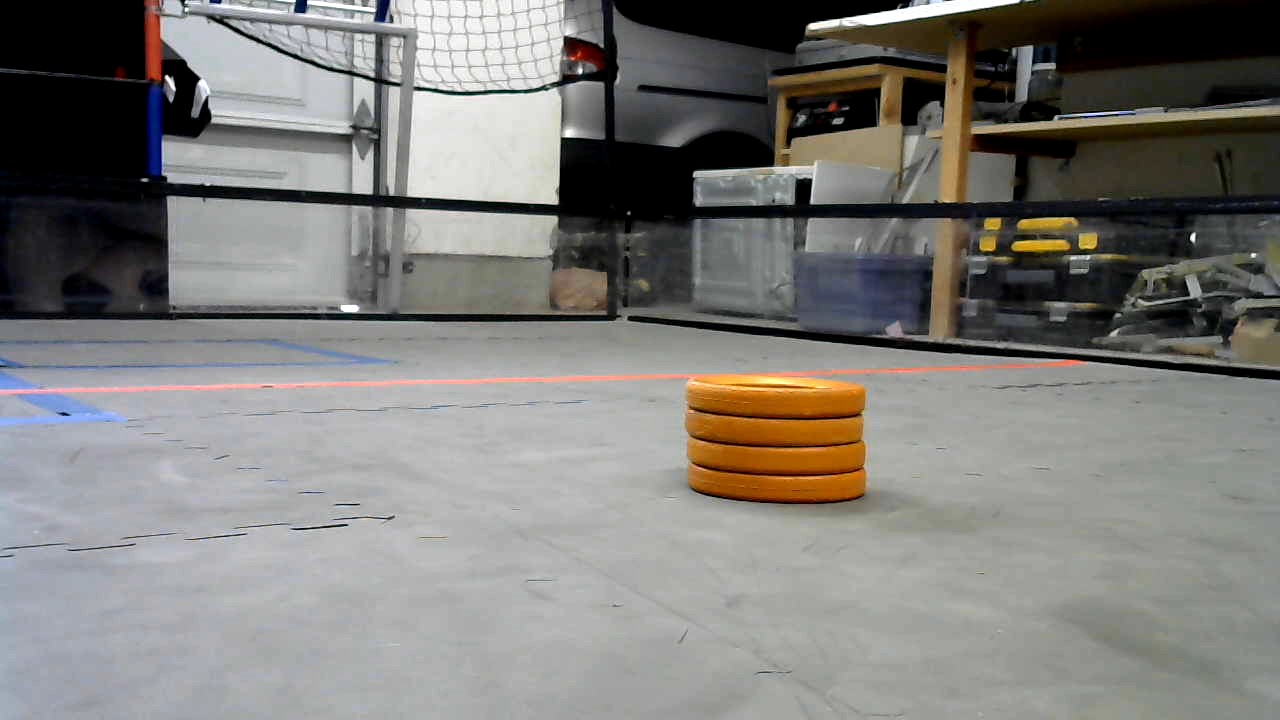FourStack: (685, 375, 867, 505)
